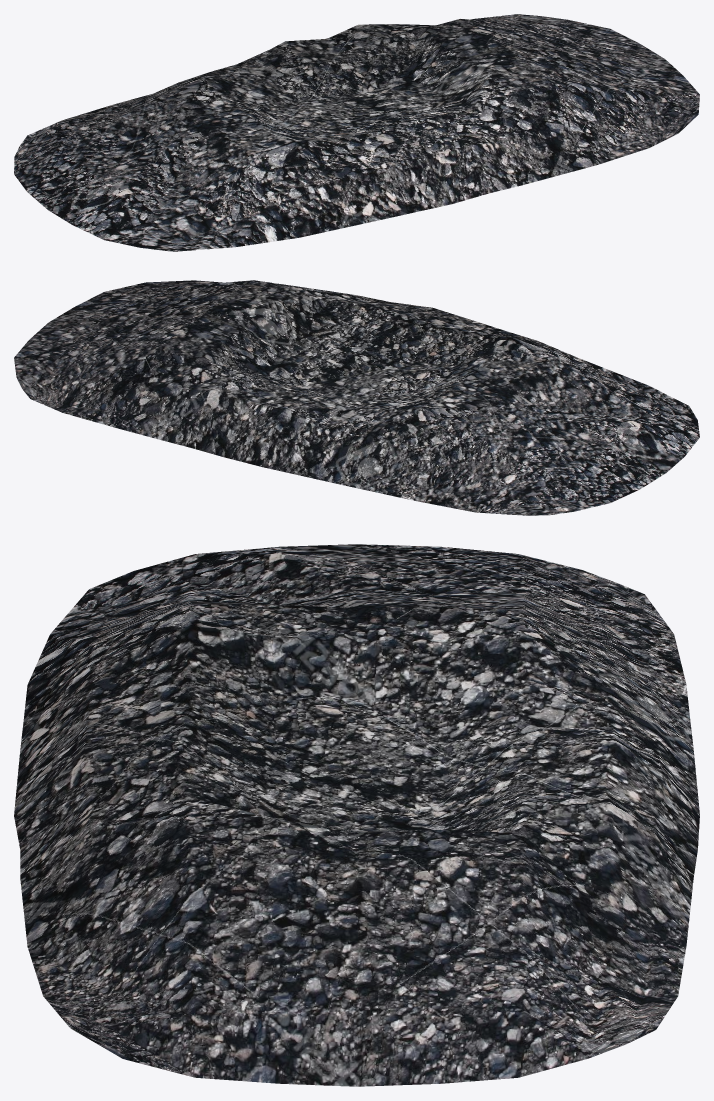
File: furnace_coal.fbx
The picture shows the model from 3 angles, top to bottom: view 1: azimuth 30°, elevation 25°; view 2: azimuth 150°, elevation 25°; view 3: azimuth 270°, elevation 25°; orthographic projection. The views are drawn at different scales.
Visible parts, largest first — view 1: pPlane1; view 2: pPlane1; view 3: pPlane1.
Part boxes in pixels (x1=…): pPlane1: x1=14, y1=14, x2=699, y2=251; pPlane1: x1=14, y1=280, x2=699, y2=515; pPlane1: x1=14, y1=544, x2=699, y2=1086.
Bounding box in the file's own units: 161 × 13.19 × 86.21.
1 material, 1 textured.
